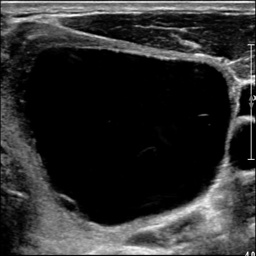mass: (17, 40, 230, 227)
